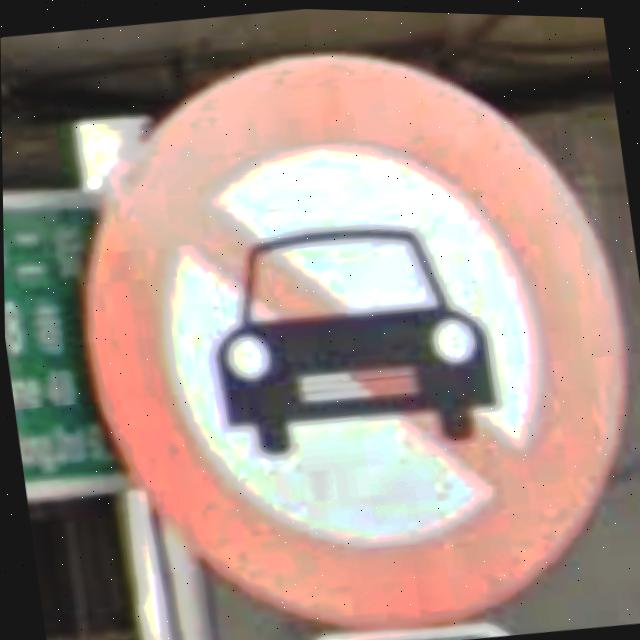nocar: (81, 51, 629, 626)
